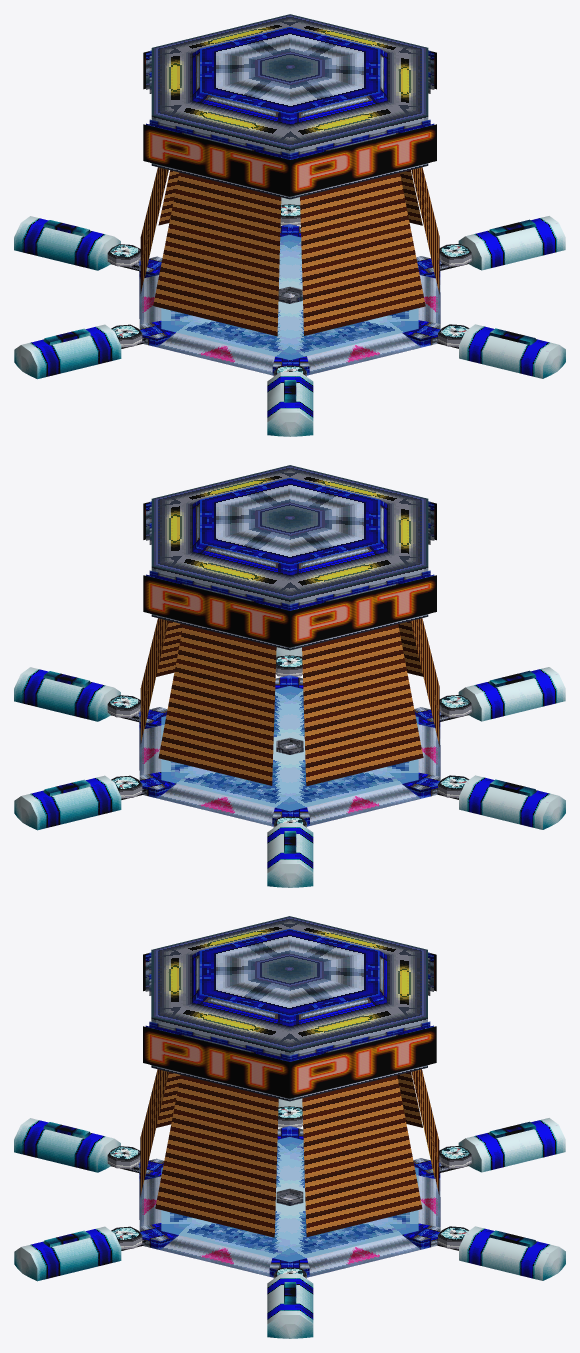
File: AirBattle.fbx
The picture shows the model from 3 angles, top to bottom: view 1: azimuth 30°, elevation 25°; view 2: azimuth 150°, elevation 25°; view 3: azimuth 270°, elevation 25°; orthographic projection.
Visible parts, largest first — view 1: Air_Pit__Battle_Stage_:Mesh; view 2: Air_Pit__Battle_Stage_:Mesh; view 3: Air_Pit__Battle_Stage_:Mesh.
Part boxes in pixels (left/top/right/bottom): Air_Pit__Battle_Stage_:Mesh: left=14, top=14, right=565, bottom=436; Air_Pit__Battle_Stage_:Mesh: left=14, top=465, right=565, bottom=887; Air_Pit__Battle_Stage_:Mesh: left=14, top=916, right=565, bottom=1338.
Size of the model in its own units: 6.86 by 2.93 by 6.12.
7 materials, 7 textured.
